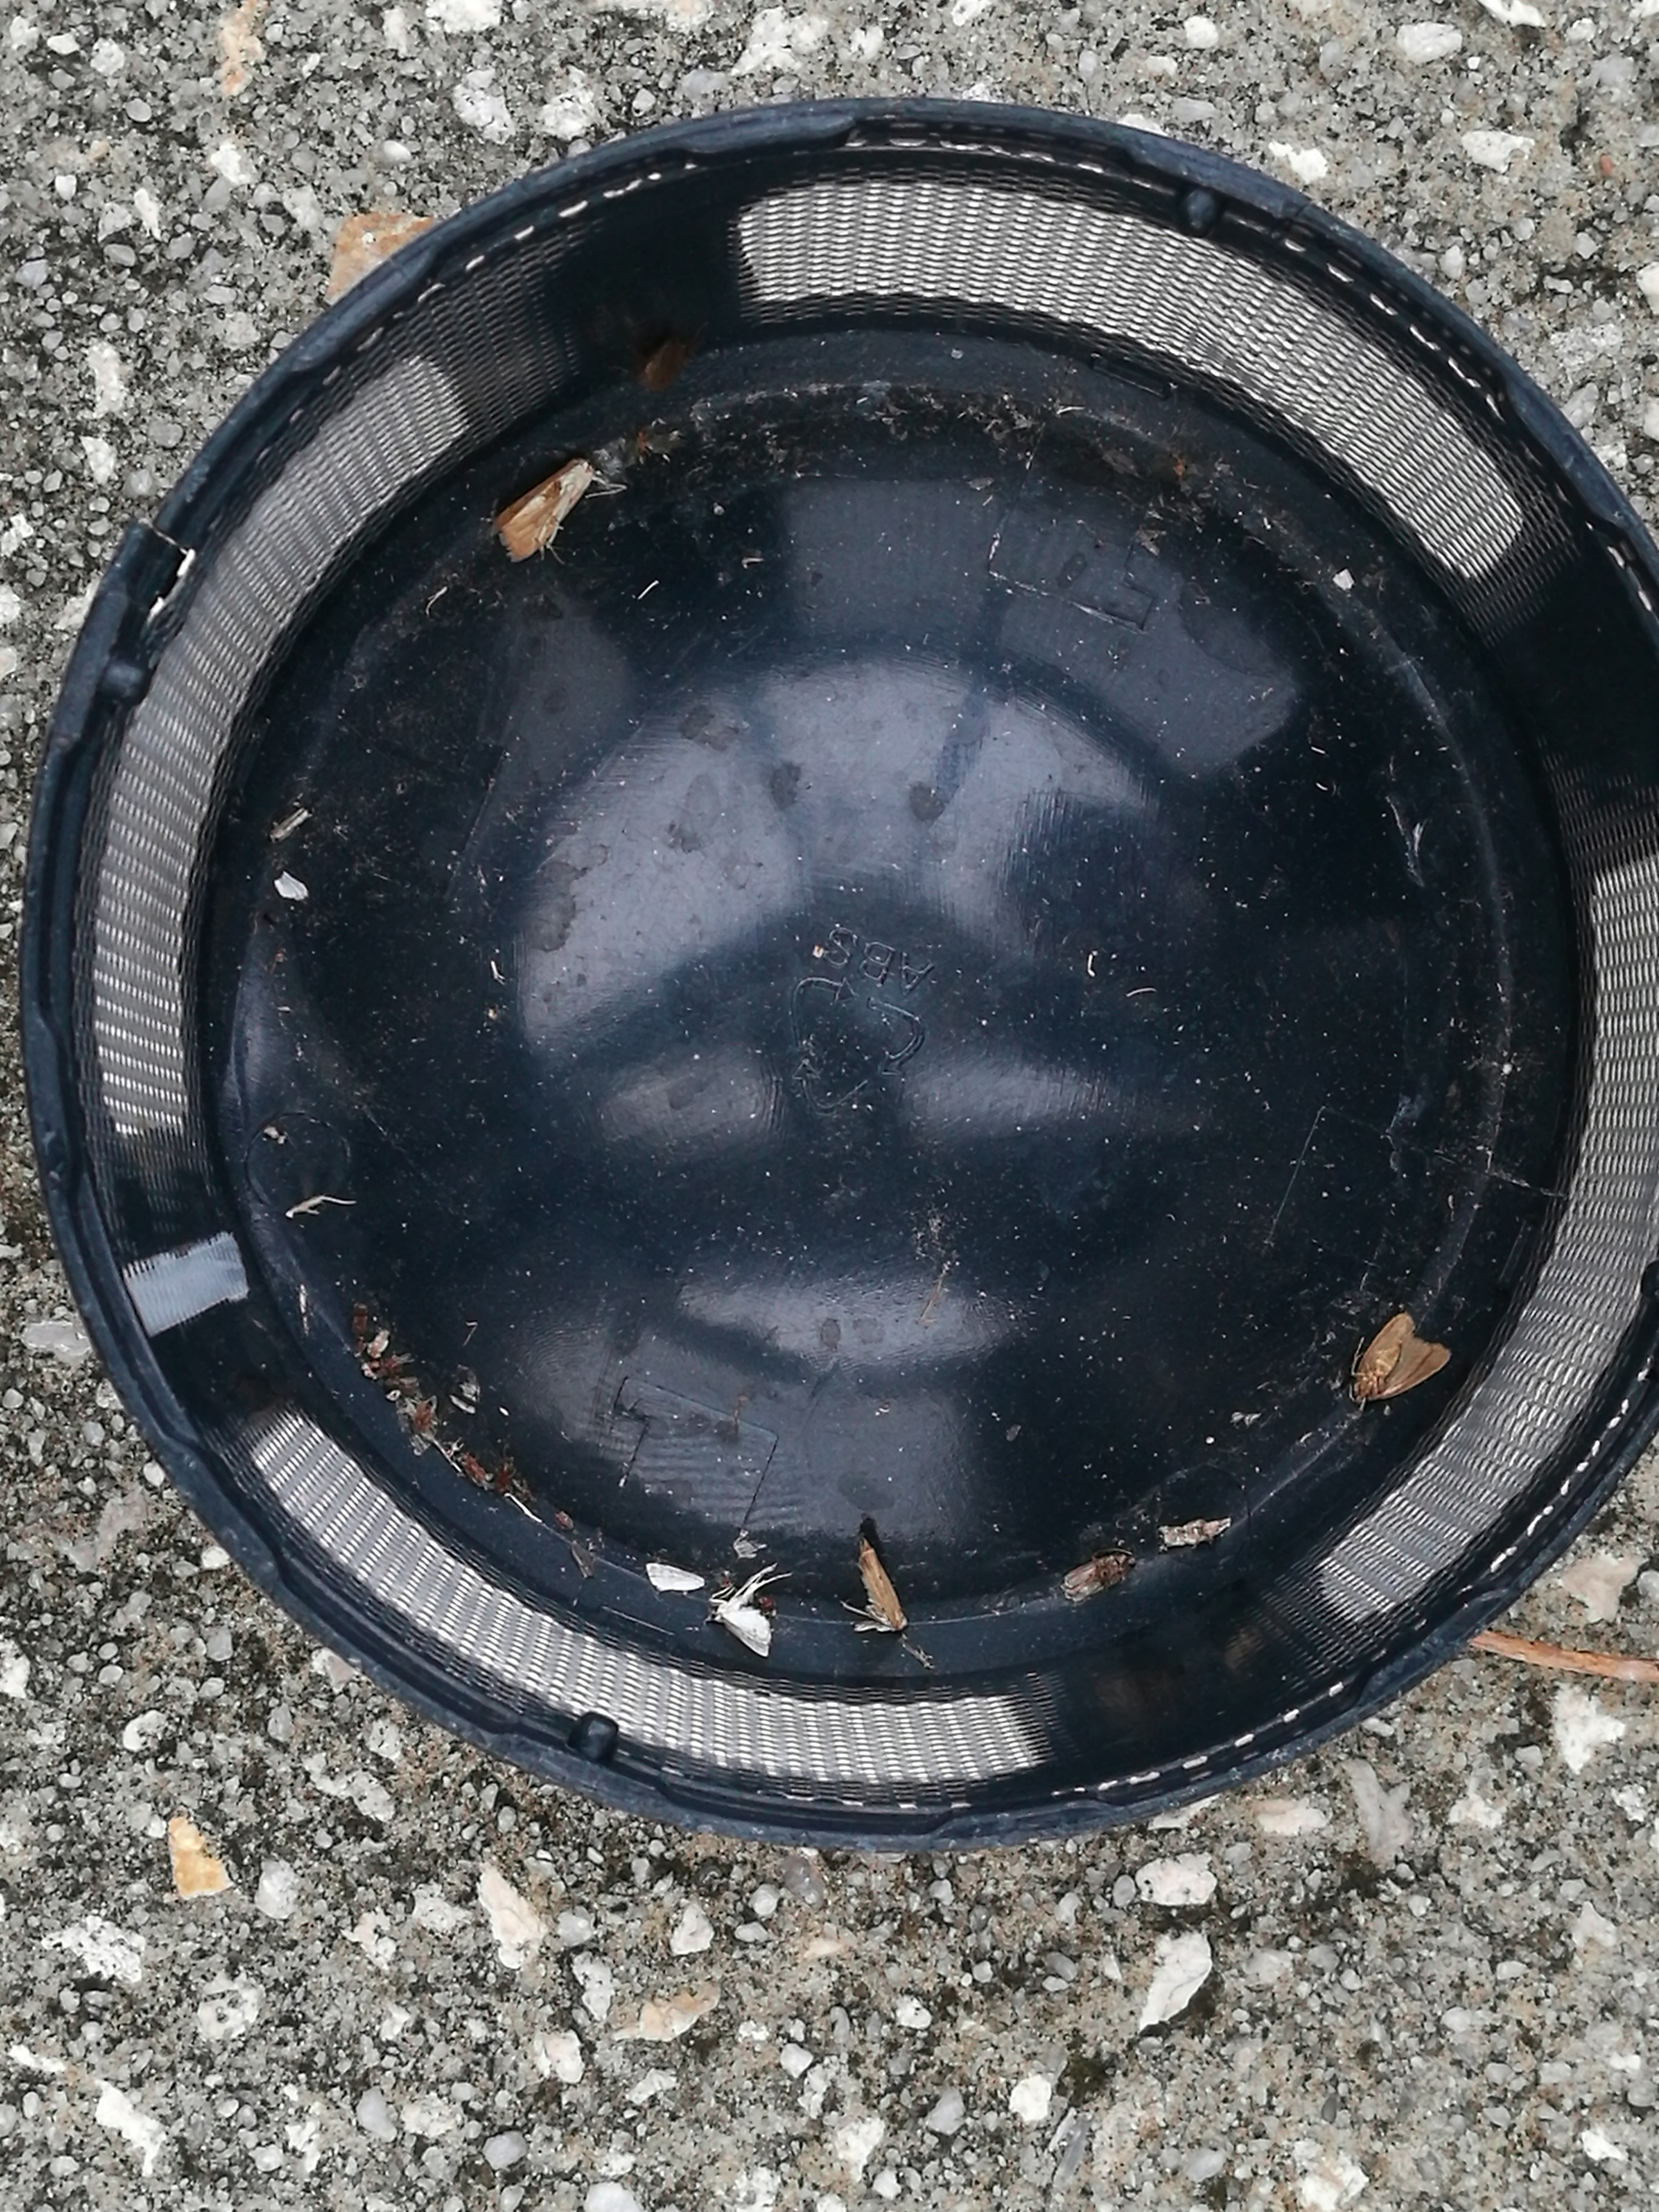mosquito: (491, 462, 594, 561), (859, 1540, 906, 1634), (1066, 1552, 1136, 1602)
moth: (1349, 1315, 1453, 1400), (711, 1602, 770, 1658)
